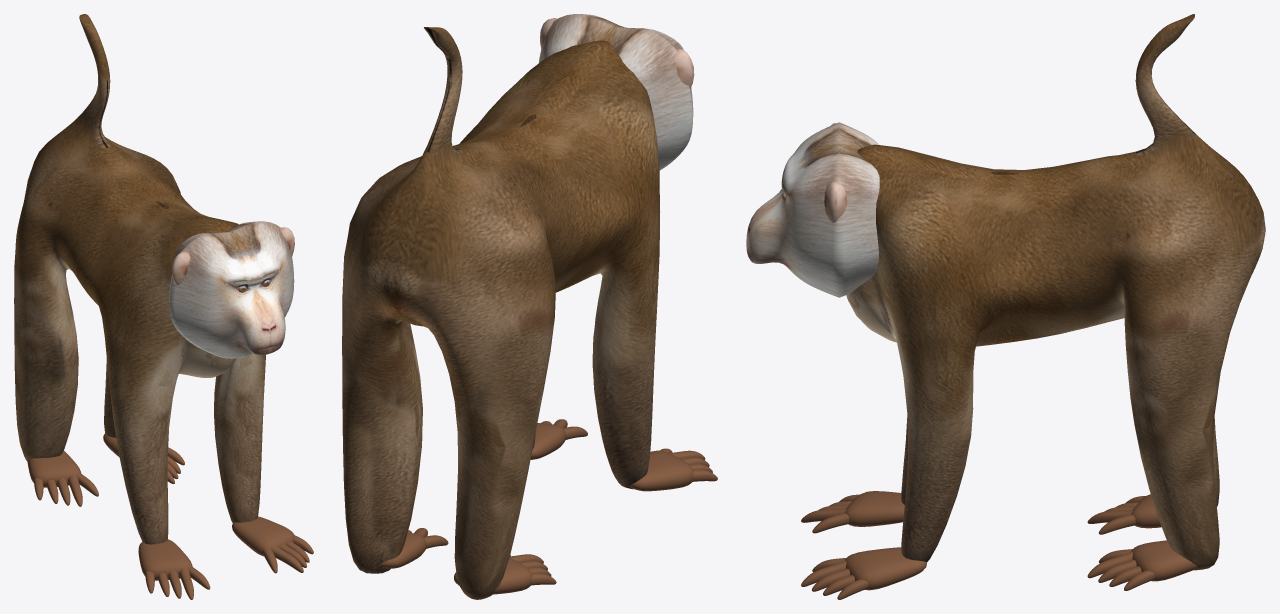
Rendered from 13_Macaca leonina (ลิงกังเหนือ).fbx.
The picture shows the model from 3 angles, left to right: view 1: azimuth 30°, elevation 25°; view 2: azimuth 150°, elevation 25°; view 3: azimuth 270°, elevation 25°; orthographic projection. The views are drawn at different scales.
Visible parts, largest first — view 1: Cube, Cube.001, Cube.002, Cube.008, Cube.004; view 2: Cube, Cube.001, Cube.002, Cube.008, Cube.004; view 3: Cube, Cube.001, Cube.002, Cube.008, Cube.004.
Part boxes in pixels (left/top/right/bottom): Cube: left=14, top=14, right=265, bottom=544; Cube.001: left=169, top=221, right=294, bottom=358; Cube.002: left=138, top=516, right=313, bottom=599; Cube.008: left=27, top=434, right=184, bottom=506; Cube.004: left=172, top=227, right=294, bottom=285; Cube: left=342, top=27, right=660, bottom=599; Cube.001: left=538, top=14, right=693, bottom=170; Cube.002: left=530, top=419, right=717, bottom=491; Cube.008: left=381, top=528, right=556, bottom=594; Cube.004: left=540, top=18, right=694, bottom=88; Cube: left=846, top=14, right=1265, bottom=570; Cube.001: left=746, top=122, right=879, bottom=297; Cube.002: left=801, top=491, right=926, bottom=599; Cube.008: left=1087, top=494, right=1197, bottom=590; Cube.004: left=824, top=123, right=847, bottom=222.
Size of the model in its own units: 150 by 395 by 344.
5 materials, 4 textured.
